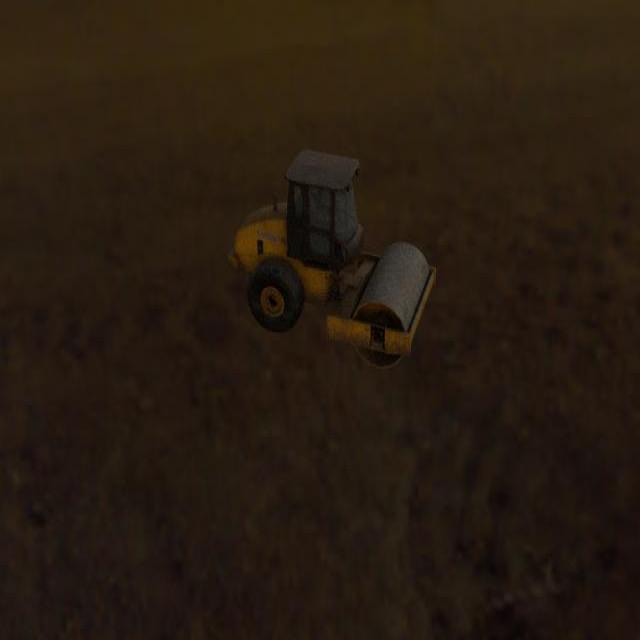Roller: (227, 148, 436, 368)
